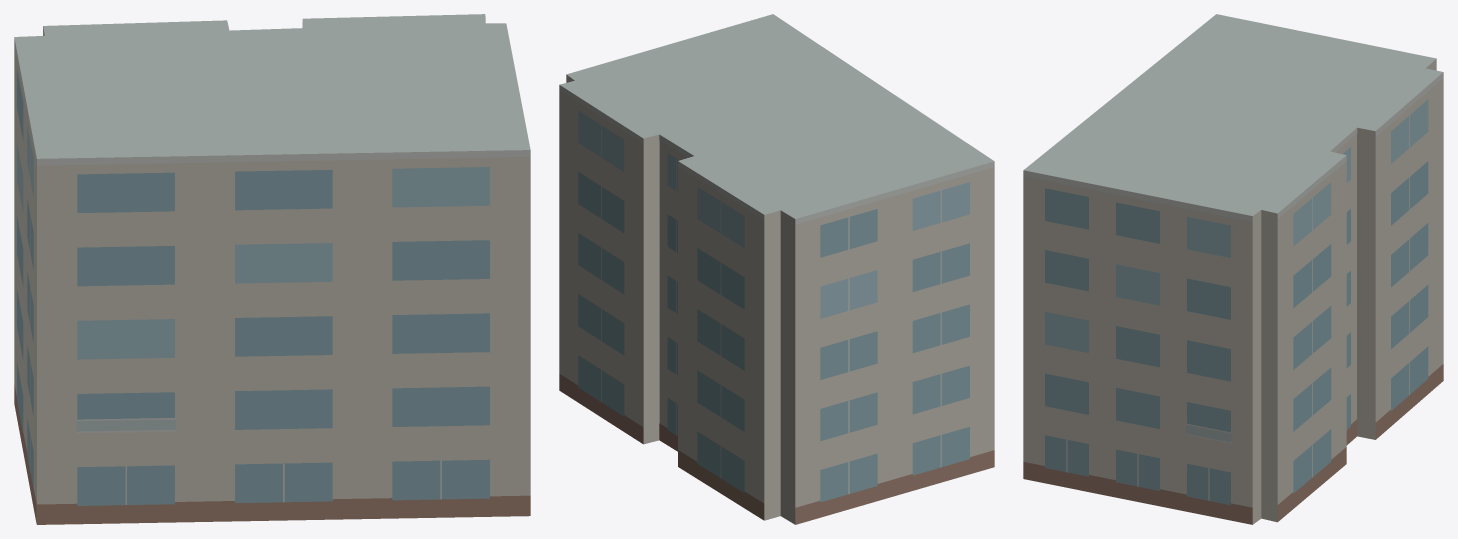
Rendered from survey-upis-32885220.glb.
3 views of the same model, side by side, from view 1: azimuth 30°, elevation 25°; view 2: azimuth 150°, elevation 25°; view 3: azimuth 270°, elevation 25° (orthographic). The views are drawn at different scales.
Visible parts, largest first — view 1: survey-upis-32885220.tmp; view 2: survey-upis-32885220.tmp; view 3: survey-upis-32885220.tmp.
Part boxes in pixels (x1,y1,x2,y2): survey-upis-32885220.tmp: [14, 14, 530, 524]; survey-upis-32885220.tmp: [559, 14, 994, 524]; survey-upis-32885220.tmp: [1023, 14, 1443, 524].
Bounding box in the file's own units: 18.61 × 13.25 × 16.35.
